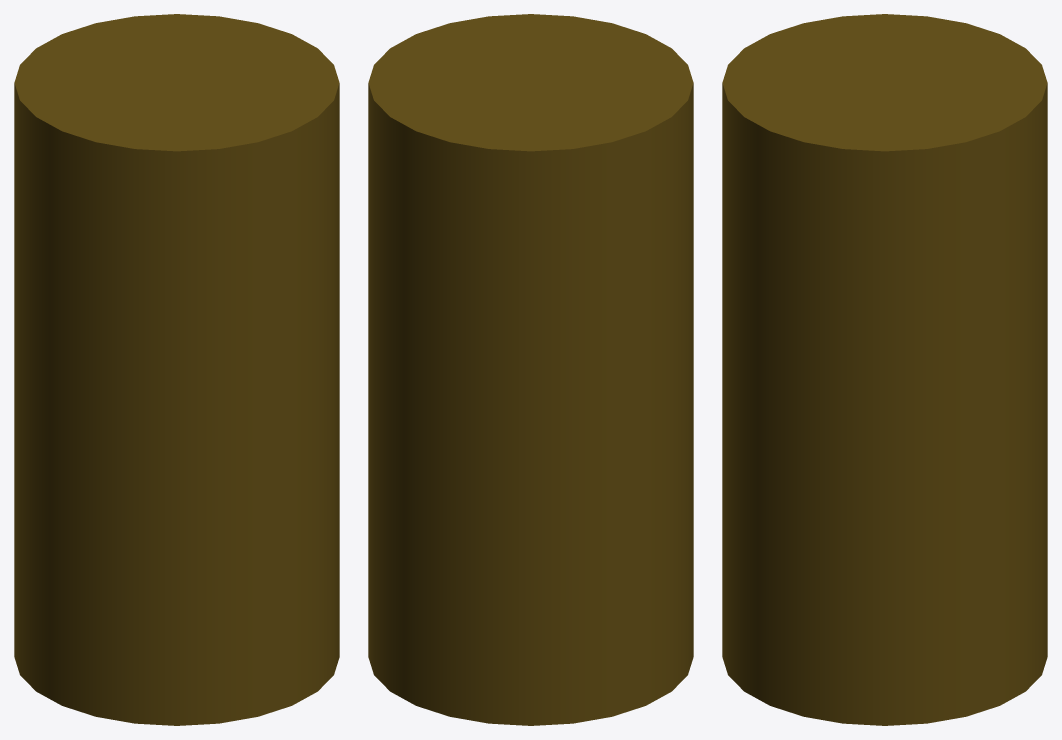
Rendered from original-16.obj.
3 views of the same model, side by side, from view 1: azimuth 30°, elevation 25°; view 2: azimuth 150°, elevation 25°; view 3: azimuth 270°, elevation 25° (orthographic).
Parts seen in each view (by area): view 1: mesh53/mesh53-geometry#mesh53-geometry; view 2: mesh53/mesh53-geometry#mesh53-geometry; view 3: mesh53/mesh53-geometry#mesh53-geometry.
Boxes of the visible parts, x1,y1,x2,y2 form: mesh53/mesh53-geometry#mesh53-geometry: (14, 14, 339, 725); mesh53/mesh53-geometry#mesh53-geometry: (368, 14, 693, 725); mesh53/mesh53-geometry#mesh53-geometry: (722, 14, 1047, 725).
Size of the model in its own units: 0.00865 by 0.0169 by 0.00865.
